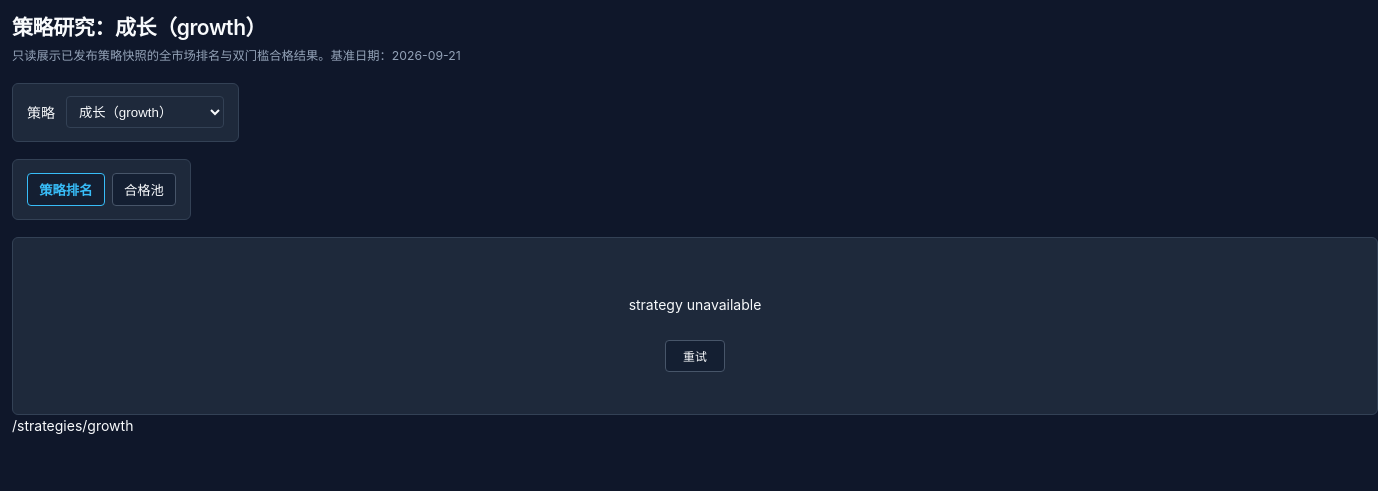
StrategyPage › offers retry after API failure
Check: the text "strategy unavailable" is shown, box [629,294,761,315]
Click the button "重试": click(695, 356) [665,340,725,372]
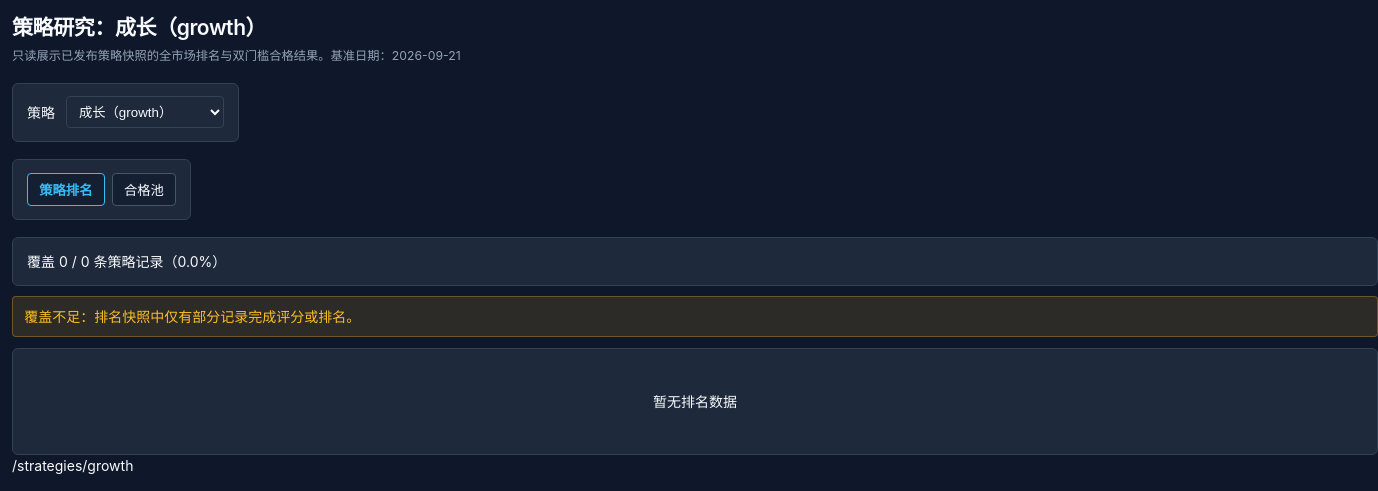
Check: the text "暂无排名数据" is shown, box [12,348,1377,455]
